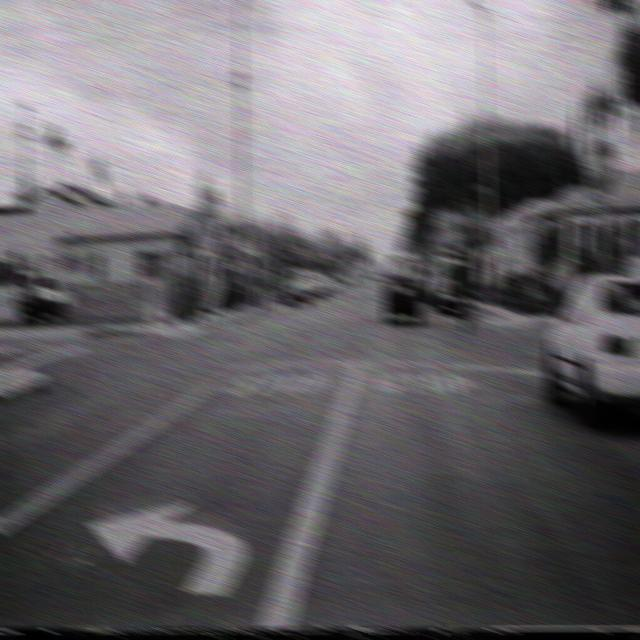stop: (584, 136, 618, 197)
